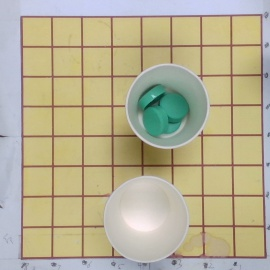cup: (104, 176, 190, 264)
cup_green: (126, 63, 211, 151)
